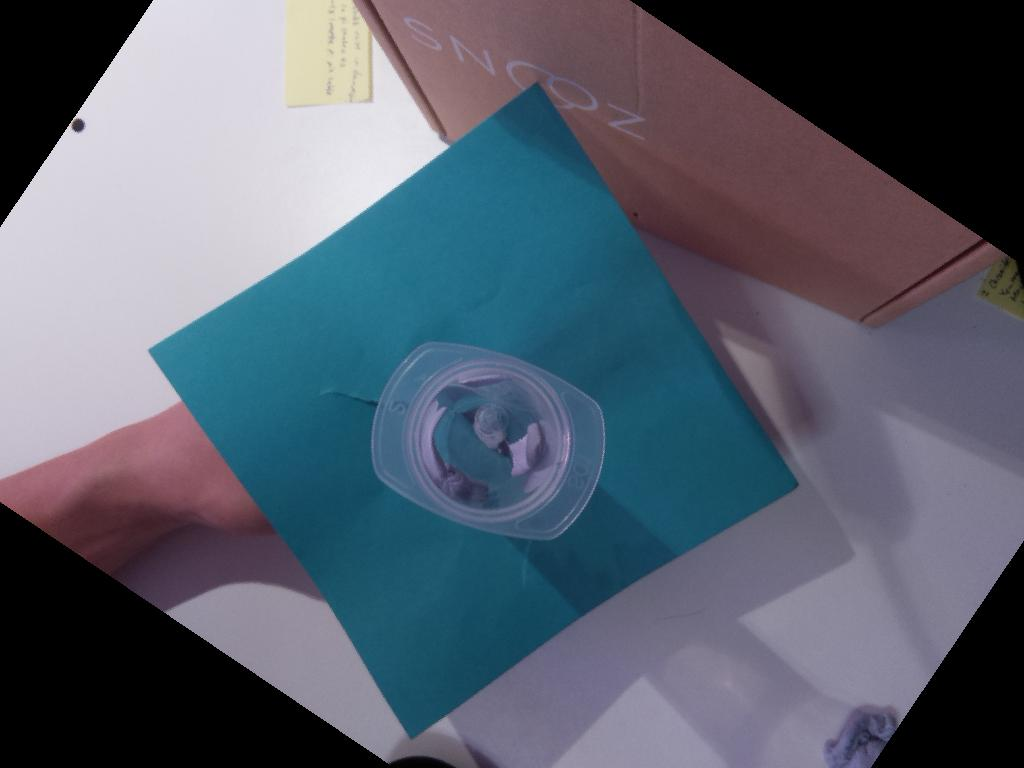dirty: (371, 340, 606, 540)
